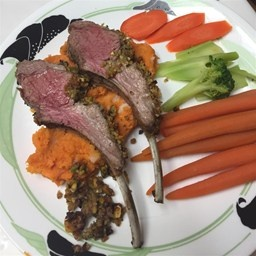background: (6, 3, 102, 99)
